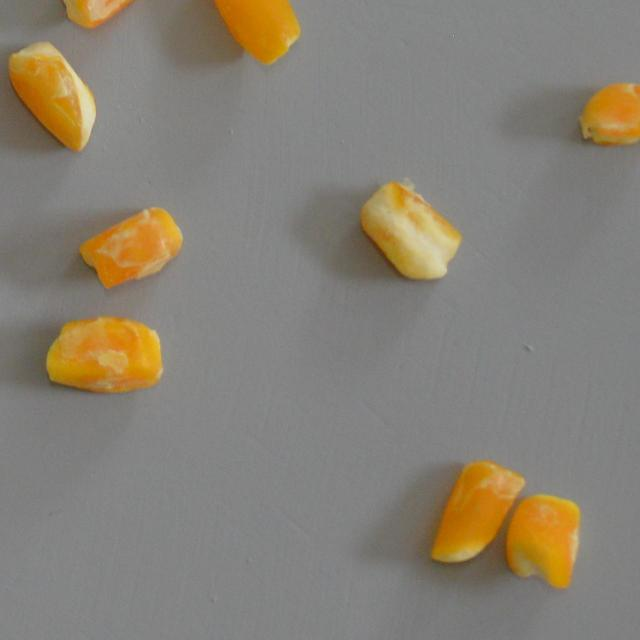dañado: (37, 311, 168, 400)
pelicula: (75, 181, 184, 292), (0, 34, 96, 152), (426, 451, 526, 562), (362, 173, 459, 284), (489, 486, 586, 597), (574, 50, 640, 162), (198, 0, 306, 65), (49, 0, 173, 37)
